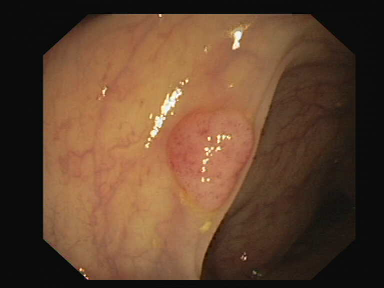polyp: (159, 88, 260, 204)
